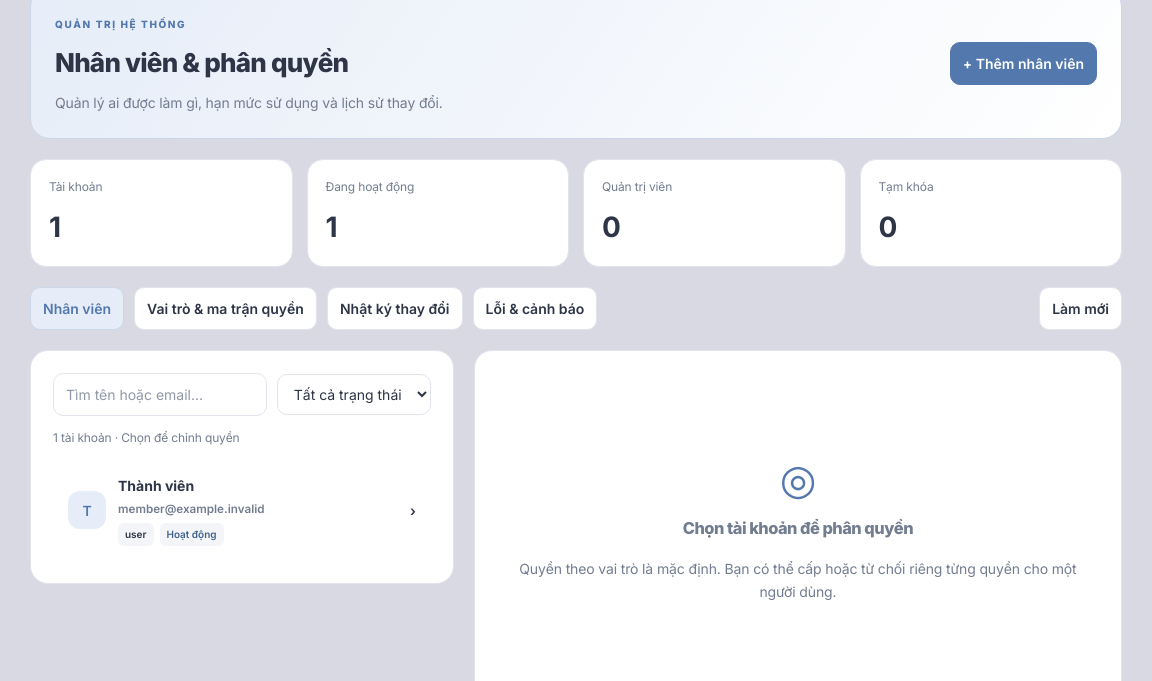
Test: Admin permissions › keeps the admin role read-only
The width and height of the screenshot is (1152, 681).
Click the button "Vai trò & ma trận quyền".
click(226, 309)  # box x1=134 y1=287 x2=317 y2=330
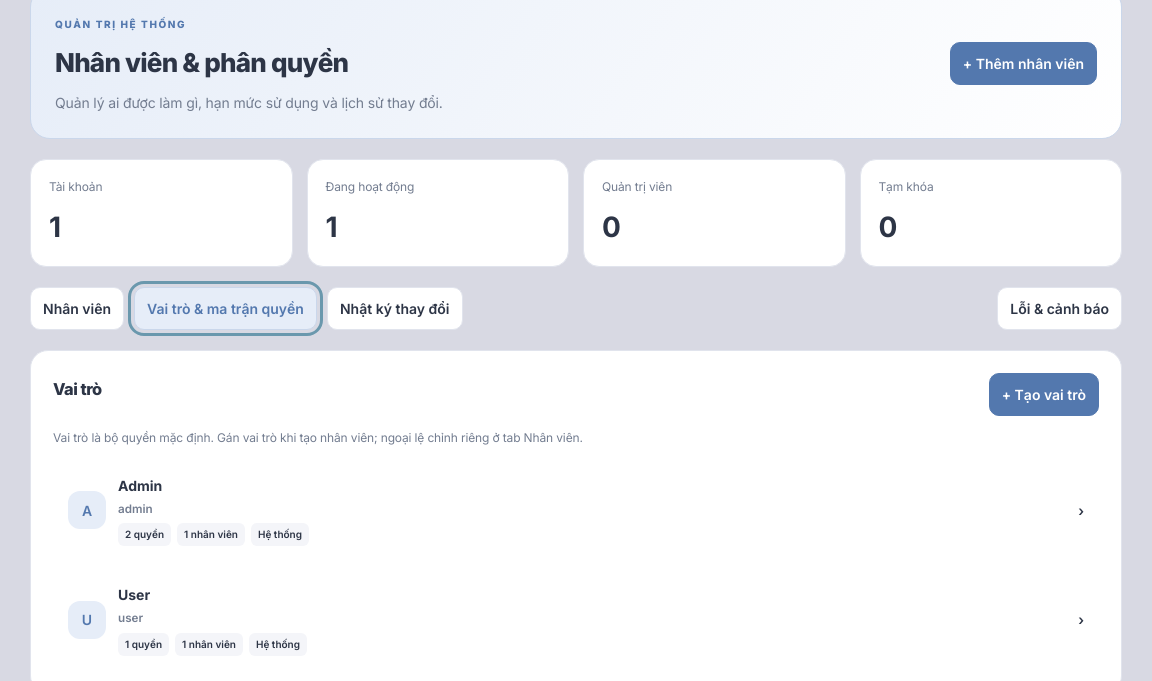
Click the text "Admin".
click(140, 485)  # box x1=118 y1=477 x2=162 y2=494
(page scrolled)
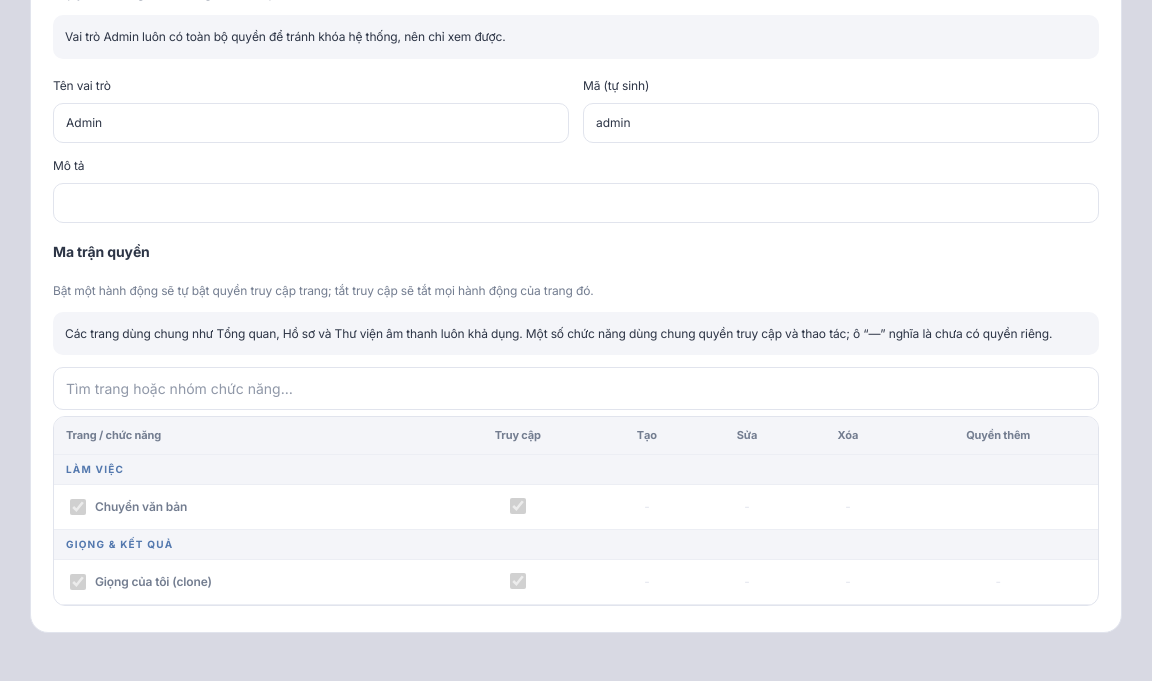
Expected: the checkbox named "Chuyển văn bản: Truy cập" is disabled, x1=510 y1=498 x2=526 y2=514
